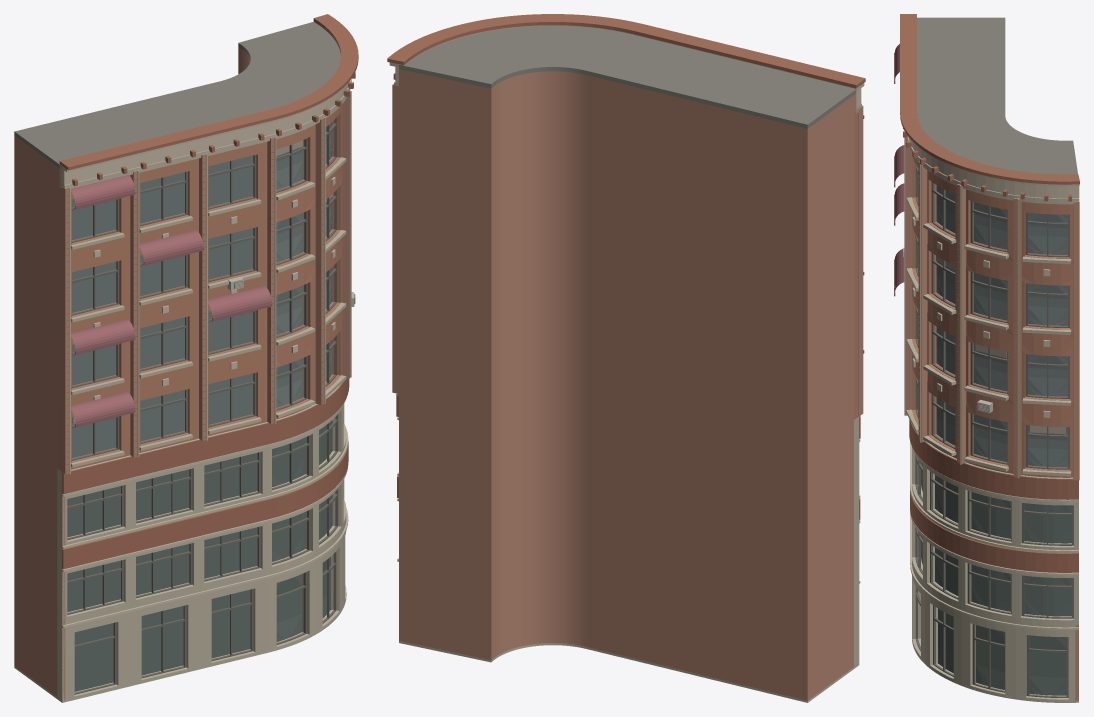
Rendered from hongkou-bank-of-china-hongkew-web.glb.
3 views of the same model, side by side, from view 1: azimuth 30°, elevation 25°; view 2: azimuth 150°, elevation 25°; view 3: azimuth 270°, elevation 25° (orthographic). The views are drawn at different scales.
Parts seen in each view (by area): view 1: 虹口中国银行大楼（西南转角）; view 2: 虹口中国银行大楼（西南转角）; view 3: 虹口中国银行大楼（西南转角）.
Part boxes in pixels (<box>): 虹口中国银行大楼（西南转角）: <box>14,14,358,702</box>; 虹口中国银行大楼（西南转角）: <box>387,14,865,702</box>; 虹口中国银行大楼（西南转角）: <box>894,14,1079,702</box>.
Size of the model in its own units: 13.82 by 20.23 by 6.47.
